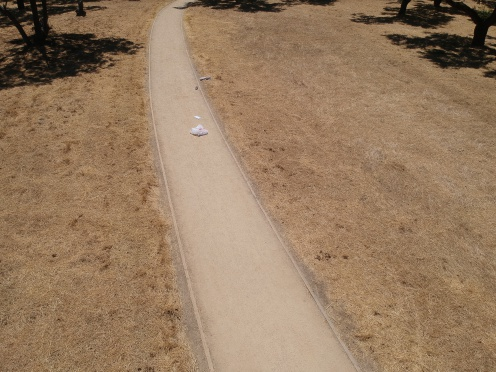plastic bag: (185, 120, 211, 137)
